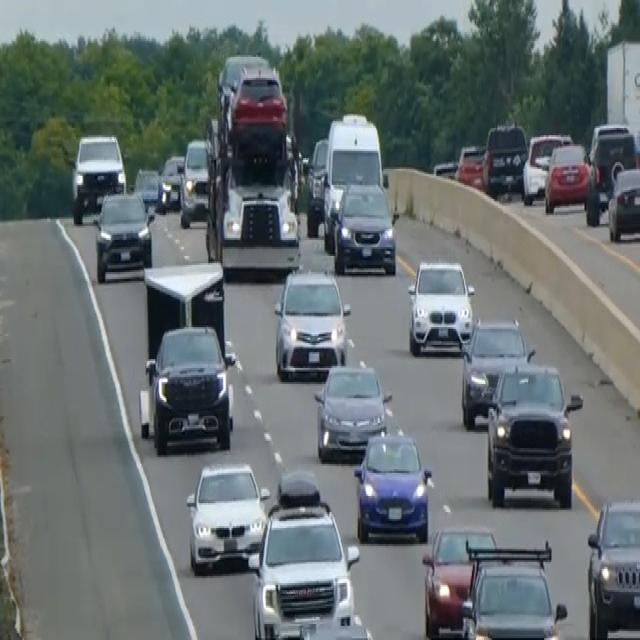car: (485, 358, 582, 508), (139, 322, 235, 453), (460, 539, 567, 638), (184, 457, 270, 574), (353, 427, 432, 544), (273, 265, 351, 380), (421, 524, 496, 638), (459, 314, 533, 428), (313, 358, 392, 460), (585, 494, 639, 638), (406, 256, 475, 356), (331, 178, 397, 276), (93, 188, 153, 281), (585, 123, 639, 224), (69, 130, 126, 222), (228, 66, 288, 151), (521, 130, 572, 204), (216, 50, 269, 119), (481, 119, 527, 197), (543, 140, 591, 213), (178, 135, 211, 228), (269, 612, 381, 638), (606, 164, 639, 242), (304, 135, 329, 235), (156, 153, 184, 211), (454, 142, 485, 188), (133, 165, 159, 210)
jeep: (249, 470, 360, 638)
lorry: (204, 54, 303, 278)
minibus: (321, 110, 385, 249)
